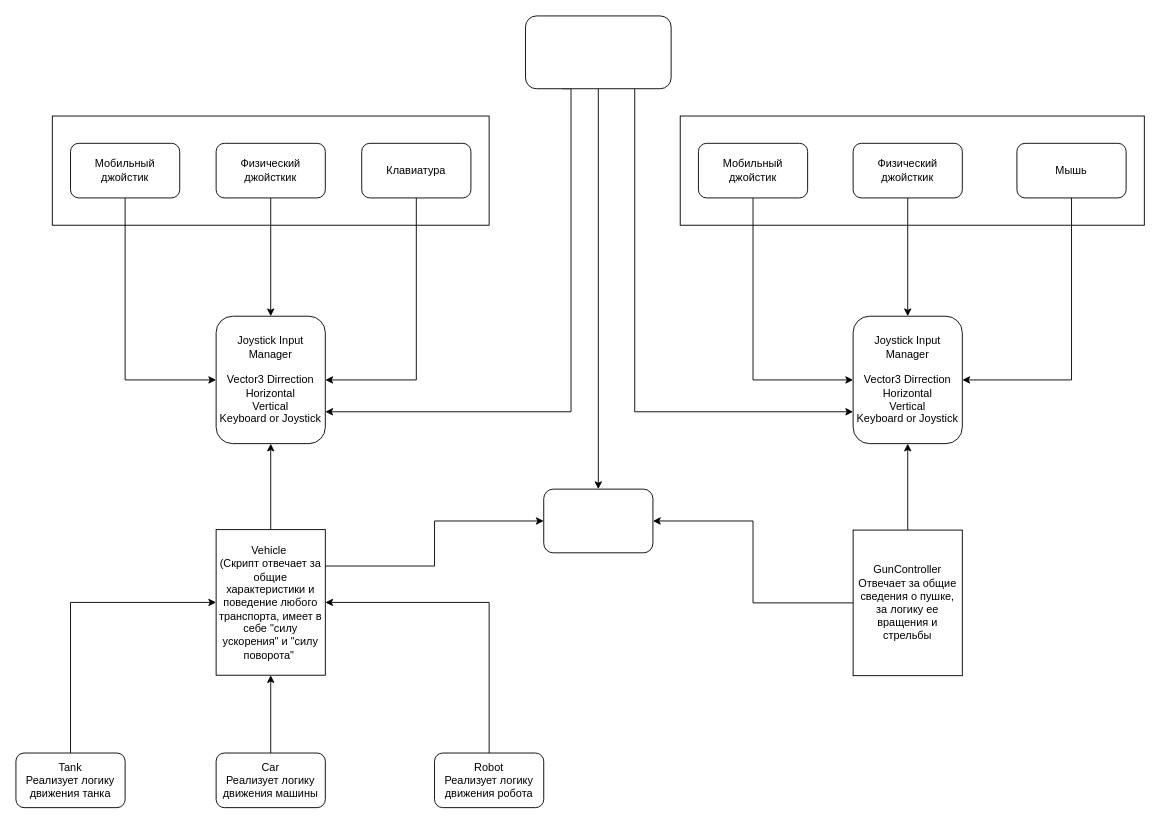
Some shapes in this 1160 by 824 pixel diagram are drawn without their labels. Here are the shapes that lost their labels. From the top down, the centre of each, then its label:
(598,52): AI
(598,520): Button Input Manager
